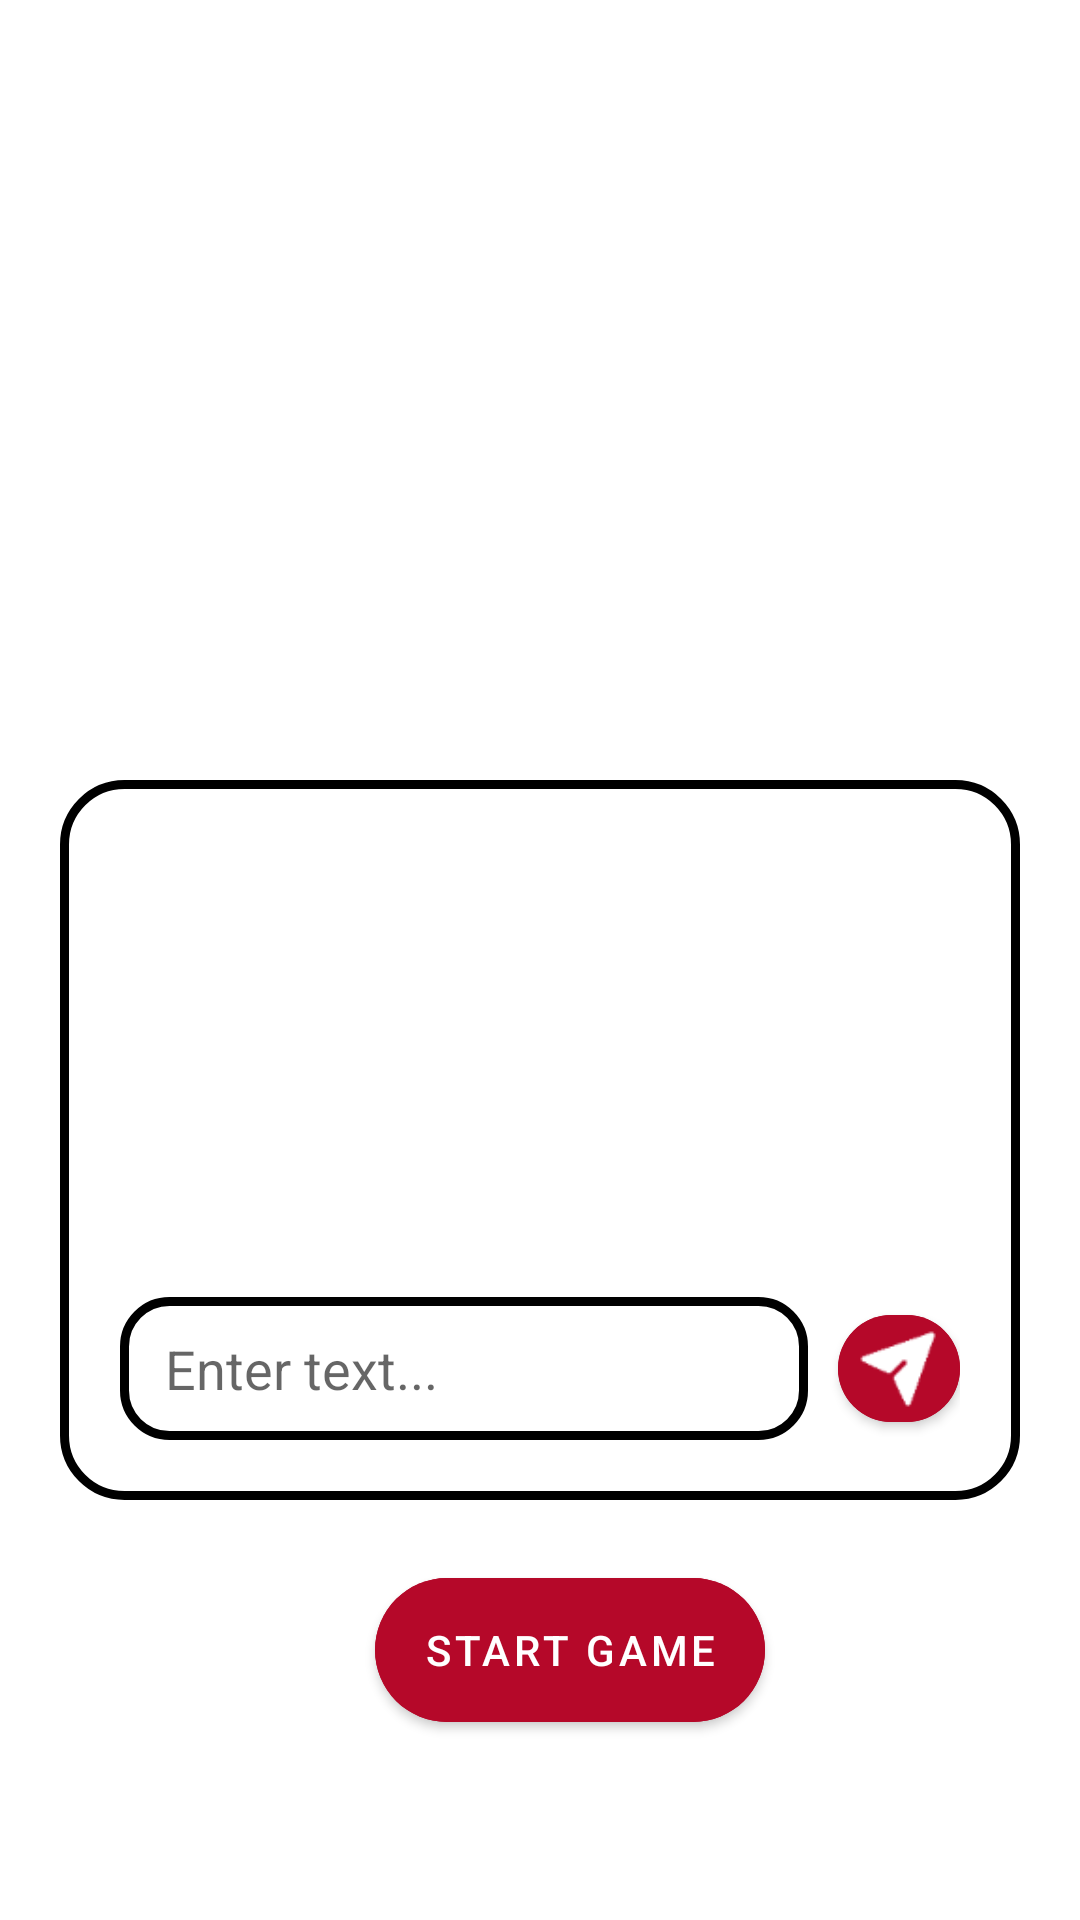

Named icons in this screenshot (1080 x 1920) and their centers, (x,y):
send: (899,1370)
